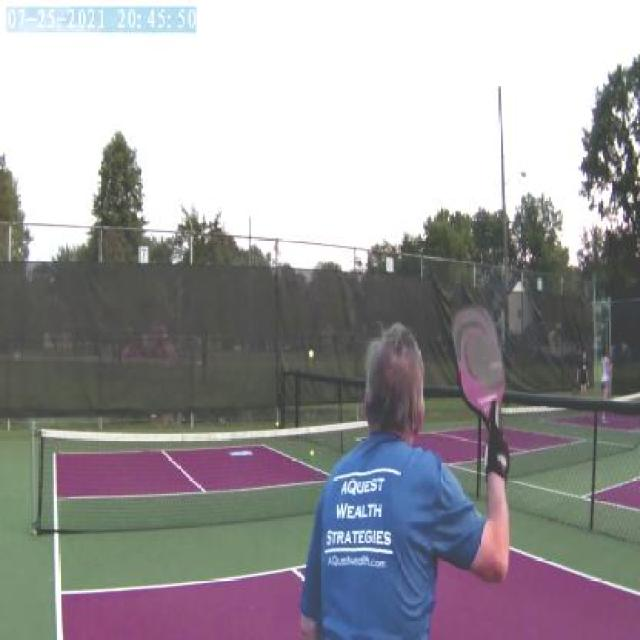ball: (301, 345, 320, 360), (306, 447, 318, 461)
